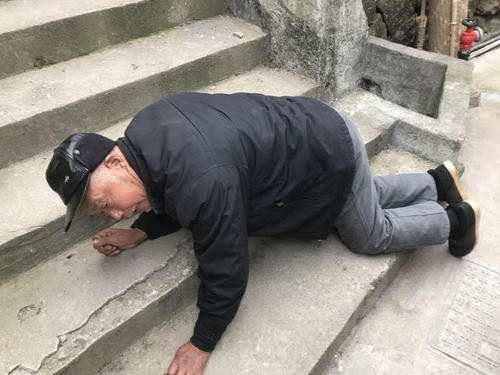fall: (13, 83, 497, 370)
